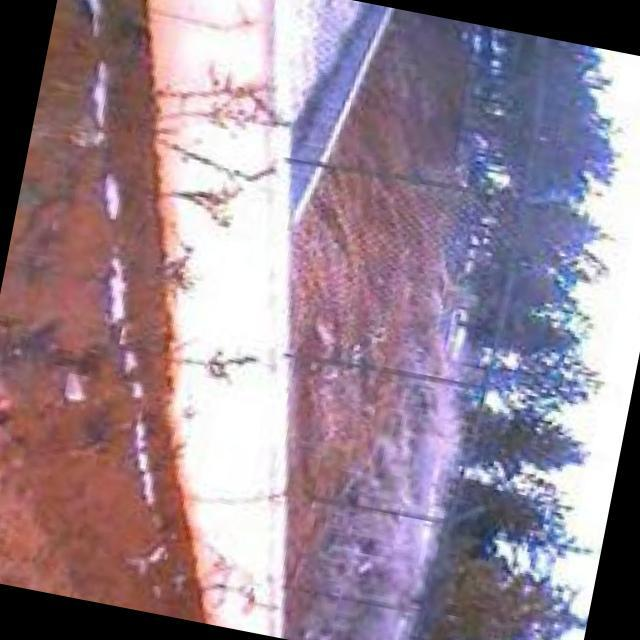Fire: (1, 387, 26, 454)
